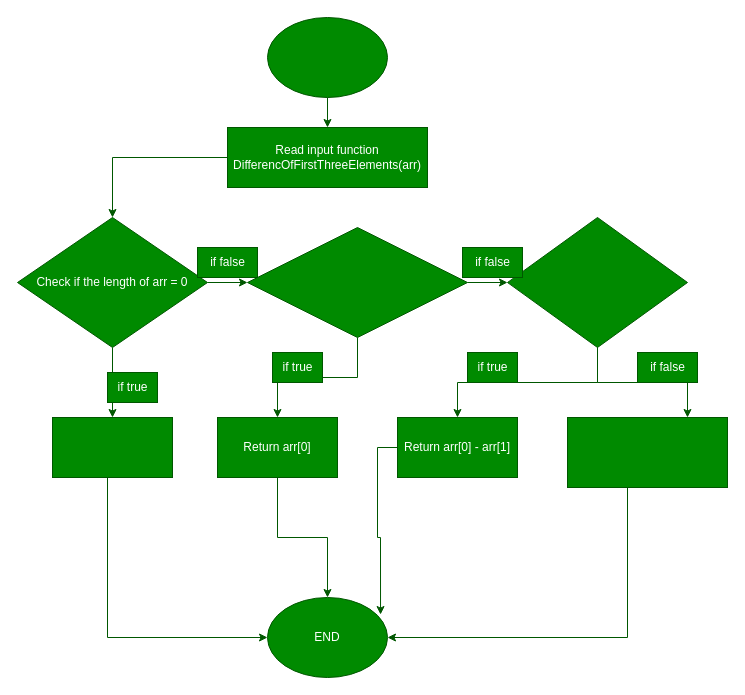
The diagram is 745 pixels wide and 695 high, and some of its shapes have lost their labels. Each missing label, with the centre of its shape:
Check if the length of arr = 1: pixel 357 282
Check if the length of arr = 2: pixel 597 282
Return 0: pixel 112 447
Return arr[0] - arr[1] - arr[2]: pixel 647 452
Start: pixel 327 57
